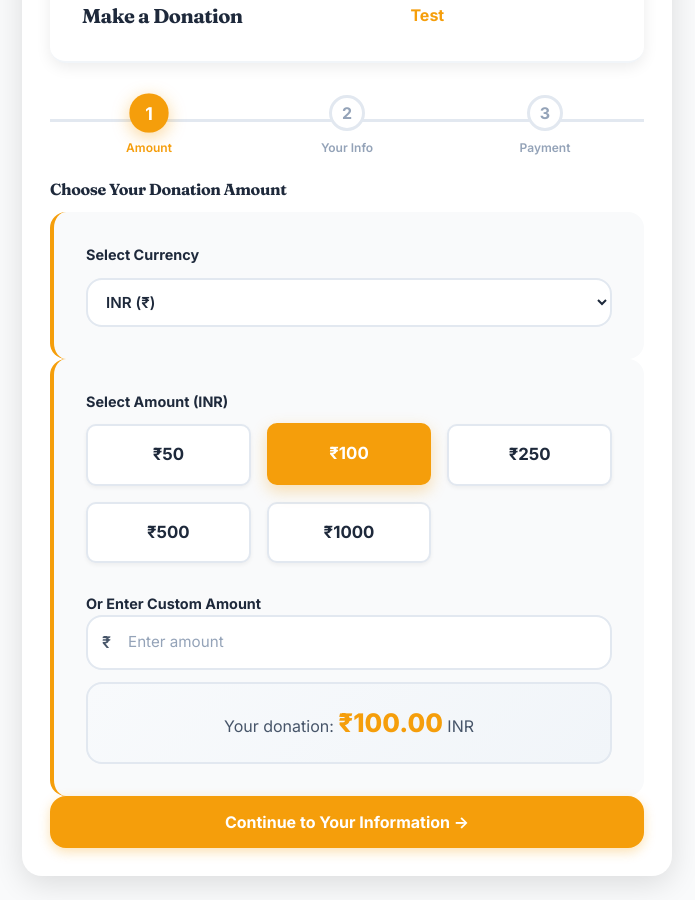
Test: DonationForm › shows validation errors when amount or info missing
The width and height of the screenshot is (695, 900).
(page scrolled)
Step 1. Click the button "Continue to Your Information →" → coordinates (347, 822), box [50,796,644,848]
(page scrolled)
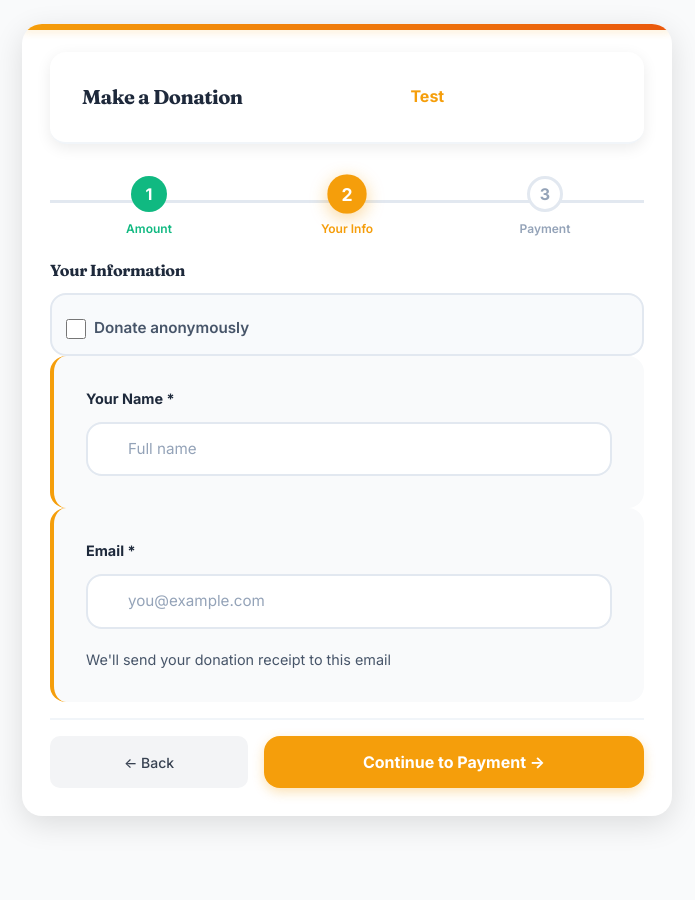
Step 2. Click the button "Continue to Payment →" → coordinates (454, 762), box [264,736,644,788]
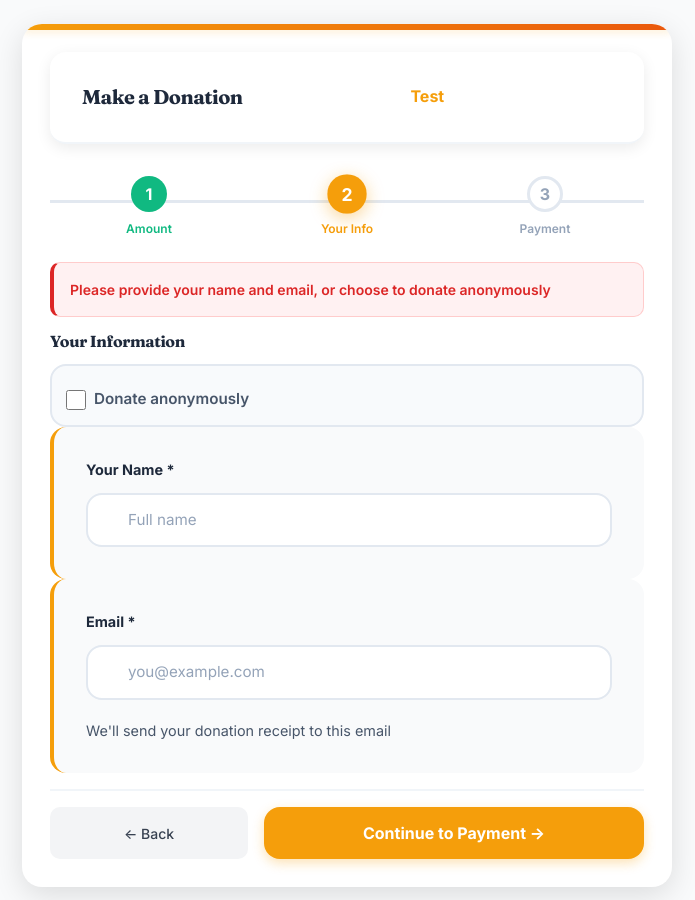
Now the text "Please provide your name and email, or choose to donate anonymously" is shown, box [50,262,644,317]
